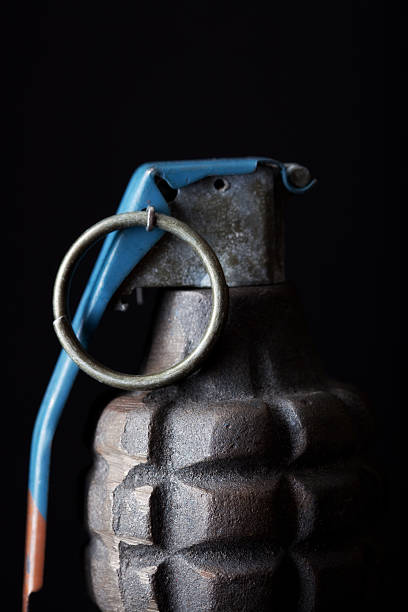e1: (22, 149, 375, 612)
